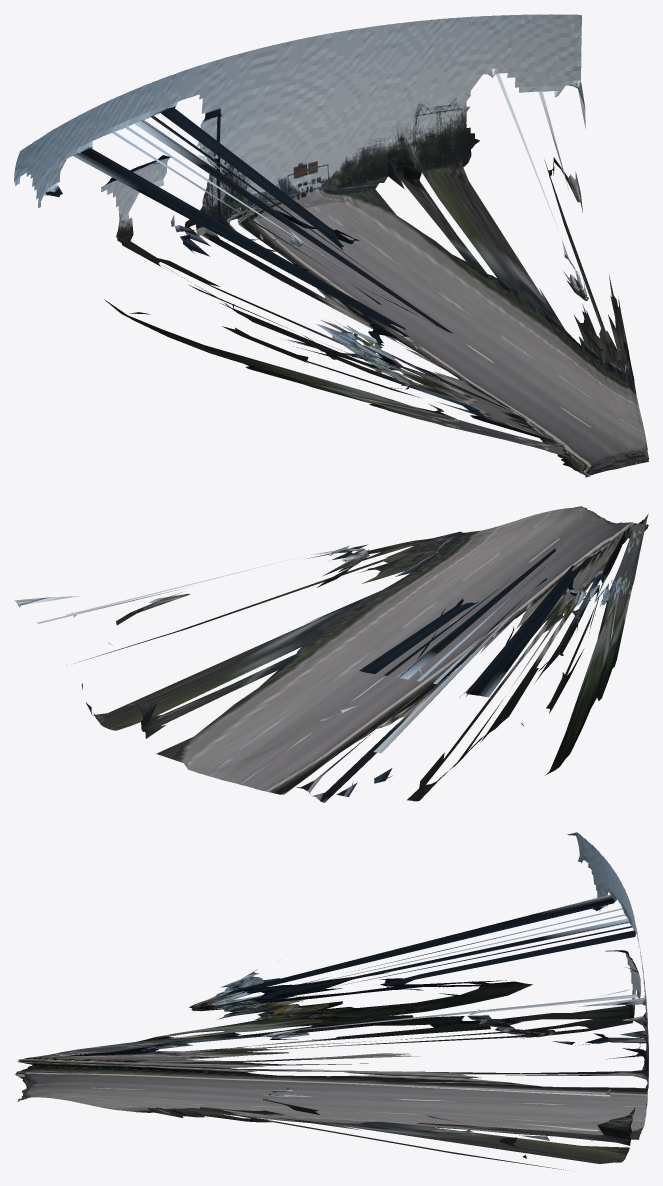
3 views of the same model, one above another, from view 1: azimuth 30°, elevation 25°; view 2: azimuth 150°, elevation 25°; view 3: azimuth 270°, elevation 25° (orthographic). The views are drawn at different scales.
Parts seen in each view (by area): view 1: defaultobject; view 2: defaultobject; view 3: defaultobject.
Part boxes in pixels (x1=…): defaultobject: x1=14, y1=14, x2=648, y2=477; defaultobject: x1=14, y1=506, x2=648, y2=802; defaultobject: x1=14, y1=832, x2=648, y2=1170.
Bounding box in the file's own units: 40.89 × 12.23 × 44.83.
Materials: 1 (1 with a texture image).
